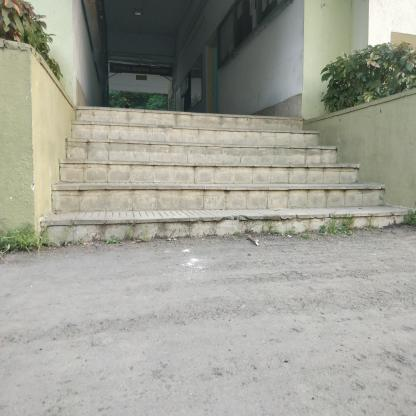stairs: (81, 129, 326, 255)
